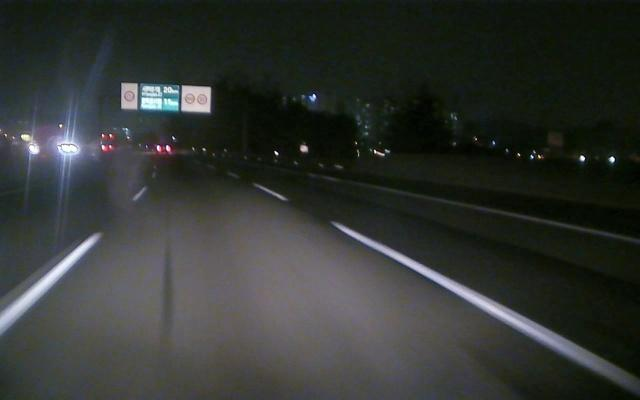lane: (253, 182, 639, 391), (1, 189, 146, 334), (357, 183, 639, 246)
